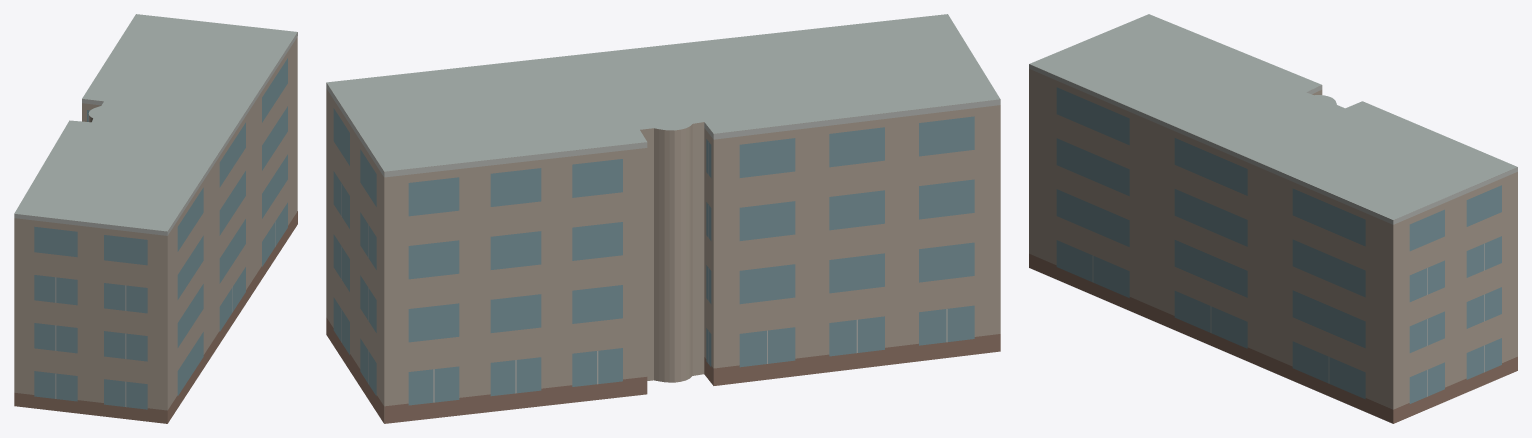
The model's file is survey-upis-32772753.glb.
The picture shows the model from 3 angles, left to right: view 1: azimuth 30°, elevation 25°; view 2: azimuth 150°, elevation 25°; view 3: azimuth 270°, elevation 25°; orthographic projection. The views are drawn at different scales.
Visible parts, largest first — view 1: survey-upis-32772753.tmp; view 2: survey-upis-32772753.tmp; view 3: survey-upis-32772753.tmp.
Boxes of the visible parts, box(x1,y1,x2,y2) form: survey-upis-32772753.tmp: box(14, 14, 297, 423); survey-upis-32772753.tmp: box(326, 14, 1000, 423); survey-upis-32772753.tmp: box(1029, 14, 1517, 423).
Size of the model in its own units: 23.12 by 10.65 by 23.16.
